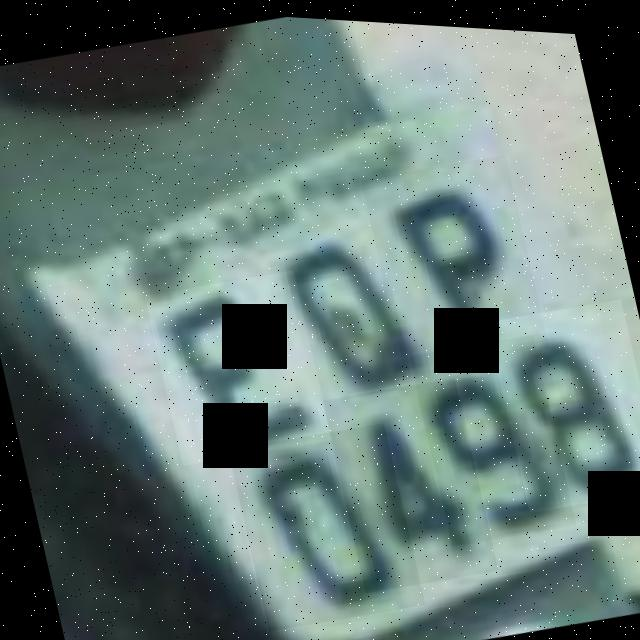0: (228, 411, 425, 635)
4: (322, 365, 498, 595)
8: (485, 285, 640, 511)
9: (409, 322, 576, 546)
E: (144, 259, 332, 470)
P: (361, 141, 548, 371)
